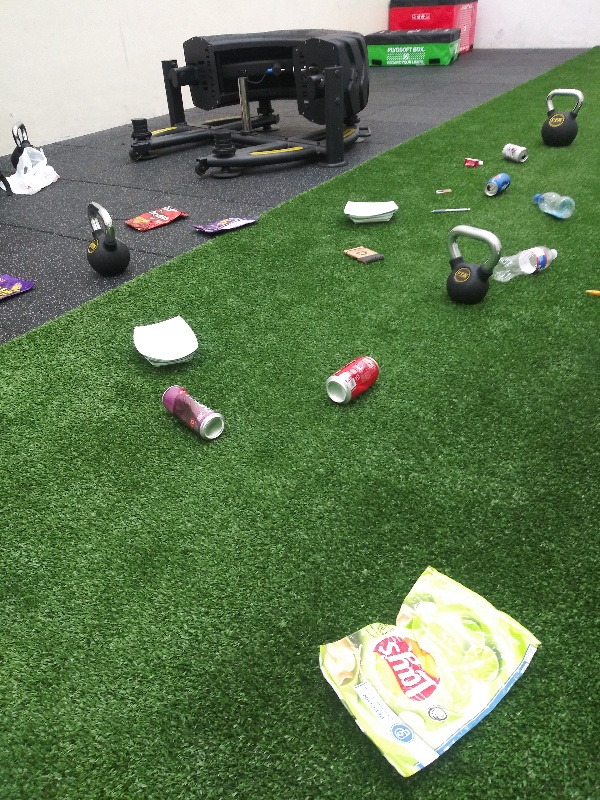bag: (307, 562, 549, 779), (120, 201, 191, 235), (187, 211, 262, 238), (1, 264, 41, 312)
bottle: (491, 244, 562, 287), (527, 188, 578, 221)
can: (157, 382, 224, 446), (319, 350, 383, 406), (481, 170, 515, 199), (496, 138, 529, 163)
plate: (124, 310, 203, 371), (340, 193, 405, 226)
